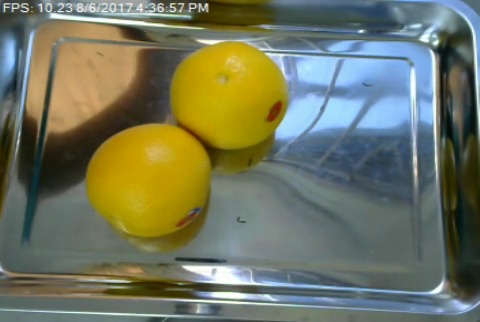Orange: (85, 123, 210, 235), (168, 42, 288, 149)
